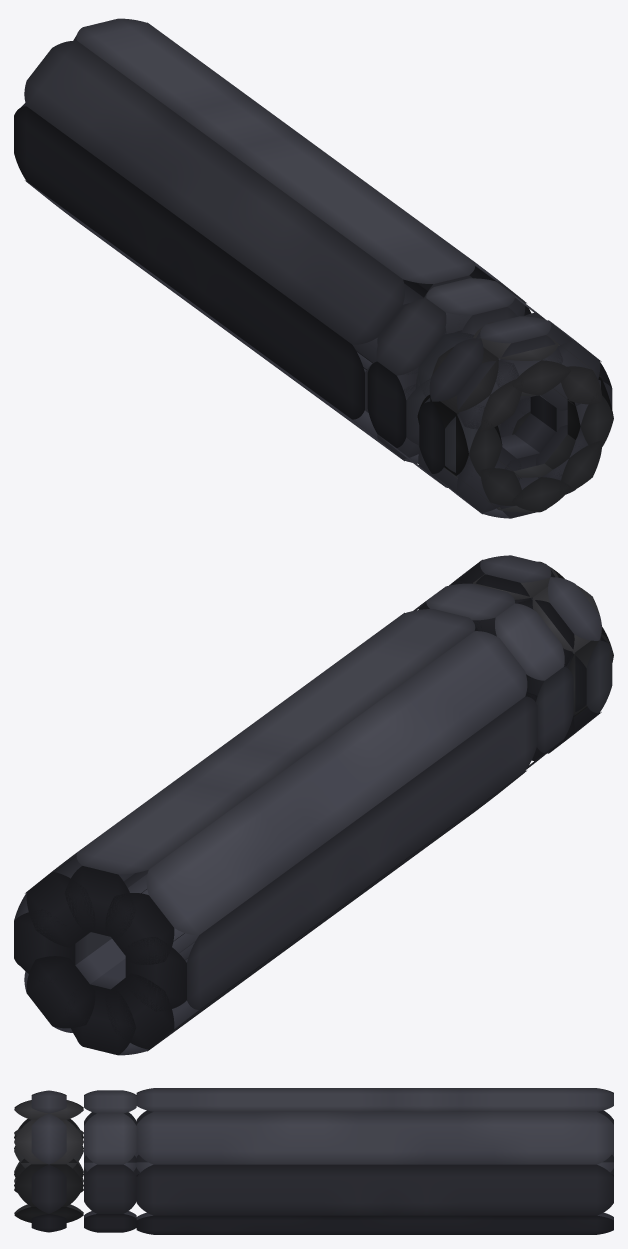
File: ak47_muzzle_silencer.fbx
3 views of the same model, one above another, from view 1: azimuth 30°, elevation 25°; view 2: azimuth 150°, elevation 25°; view 3: azimuth 270°, elevation 25° (orthographic). The views are drawn at different scales.
Parts seen in each view (by area): view 1: octagon, octagon_14, octagon_22, octagon_17, octagon_15, octagon_23, octagon_25, octagon_30, octagon_31, octagon_33, octagon_28, octagon_29 (+8 smaller); view 2: octagon, octagon_14, octagon_22, octagon_17, octagon_15, octagon_25, octagon_23, octagon_30; view 3: octagon, octagon_18, octagon_19, octagon_26, octagon_34, octagon_27, octagon_35, octagon_15, octagon_12, octagon_31, octagon_23, octagon_28 (+1 smaller).
Boxes of the visible parts, <box> form: octagon: <box>14,18,531,463</box>; octagon_14: <box>376,298,474,396</box>; octagon_22: <box>429,338,518,429</box>; octagon_17: <box>367,361,430,447</box>; octagon_15: <box>426,278,517,341</box>; octagon_23: <box>476,316,562,399</box>; octagon_25: <box>419,397,500,476</box>; octagon_30: <box>432,346,523,431</box>; octagon_31: <box>473,322,570,395</box>; octagon_33: <box>417,394,502,480</box>; octagon_28: <box>512,411,602,494</box>; octagon_29: <box>497,463,571,512</box>; octagon: <box>14,609,537,1055</box>; octagon_14: <box>495,603,564,680</box>; octagon_22: <box>517,577,601,666</box>; octagon_17: <box>526,666,573,753</box>; octagon_15: <box>426,583,514,636</box>; octagon_25: <box>563,636,612,713</box>; octagon_23: <box>476,555,554,608</box>; octagon_30: <box>532,585,602,653</box>; octagon: <box>136,1088,613,1234</box>; octagon_18: <box>84,1113,136,1171</box>; octagon_19: <box>84,1155,136,1213</box>; octagon_26: <box>31,1113,66,1164</box>; octagon_34: <box>14,1120,83,1168</box>; octagon_27: <box>31,1164,66,1213</box>; octagon_35: <box>14,1158,83,1206</box>; octagon_15: <box>84,1090,136,1113</box>; octagon_12: <box>84,1214,136,1232</box>; octagon_31: <box>14,1100,83,1135</box>; octagon_23: <box>31,1090,66,1113</box>; octagon_28: <box>14,1189,83,1222</box>.
Bounding box in the file's own units: 12.11 × 12.11 × 53.52.
Materials: 1 (1 with a texture image).
